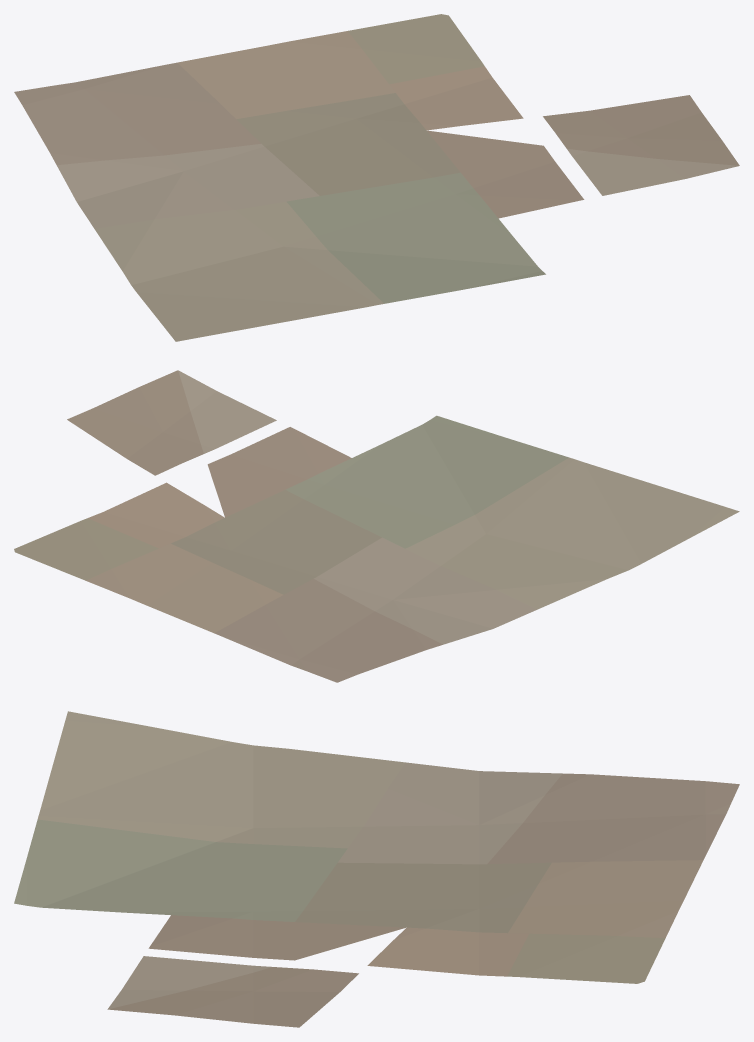
The model's file is farm_-6_-15_soil.glb.
3 views of the same model, one above another, from view 1: azimuth 30°, elevation 25°; view 2: azimuth 150°, elevation 25°; view 3: azimuth 270°, elevation 25° (orthographic). The views are drawn at different scales.
Visible parts, largest first — view 1: geometry_0; view 2: geometry_0; view 3: geometry_0.
Boxes of the visible parts, box(x1,y1,x2,y2) form: geometry_0: box(14, 14, 739, 341); geometry_0: box(14, 370, 739, 682); geometry_0: box(14, 711, 739, 1027).
Size of the model in its own units: 286 by 15.48 by 257.
